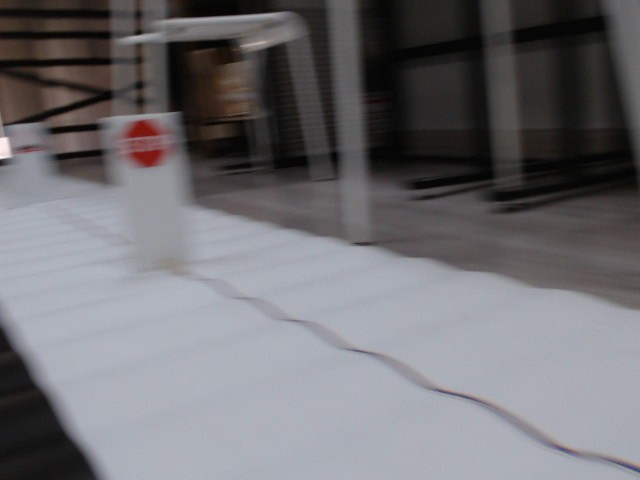Stop: (124, 121, 174, 169)
